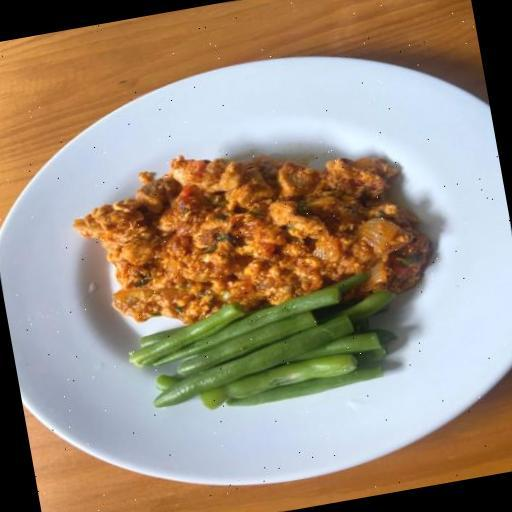buncis_rebus: (108, 274, 432, 436)
